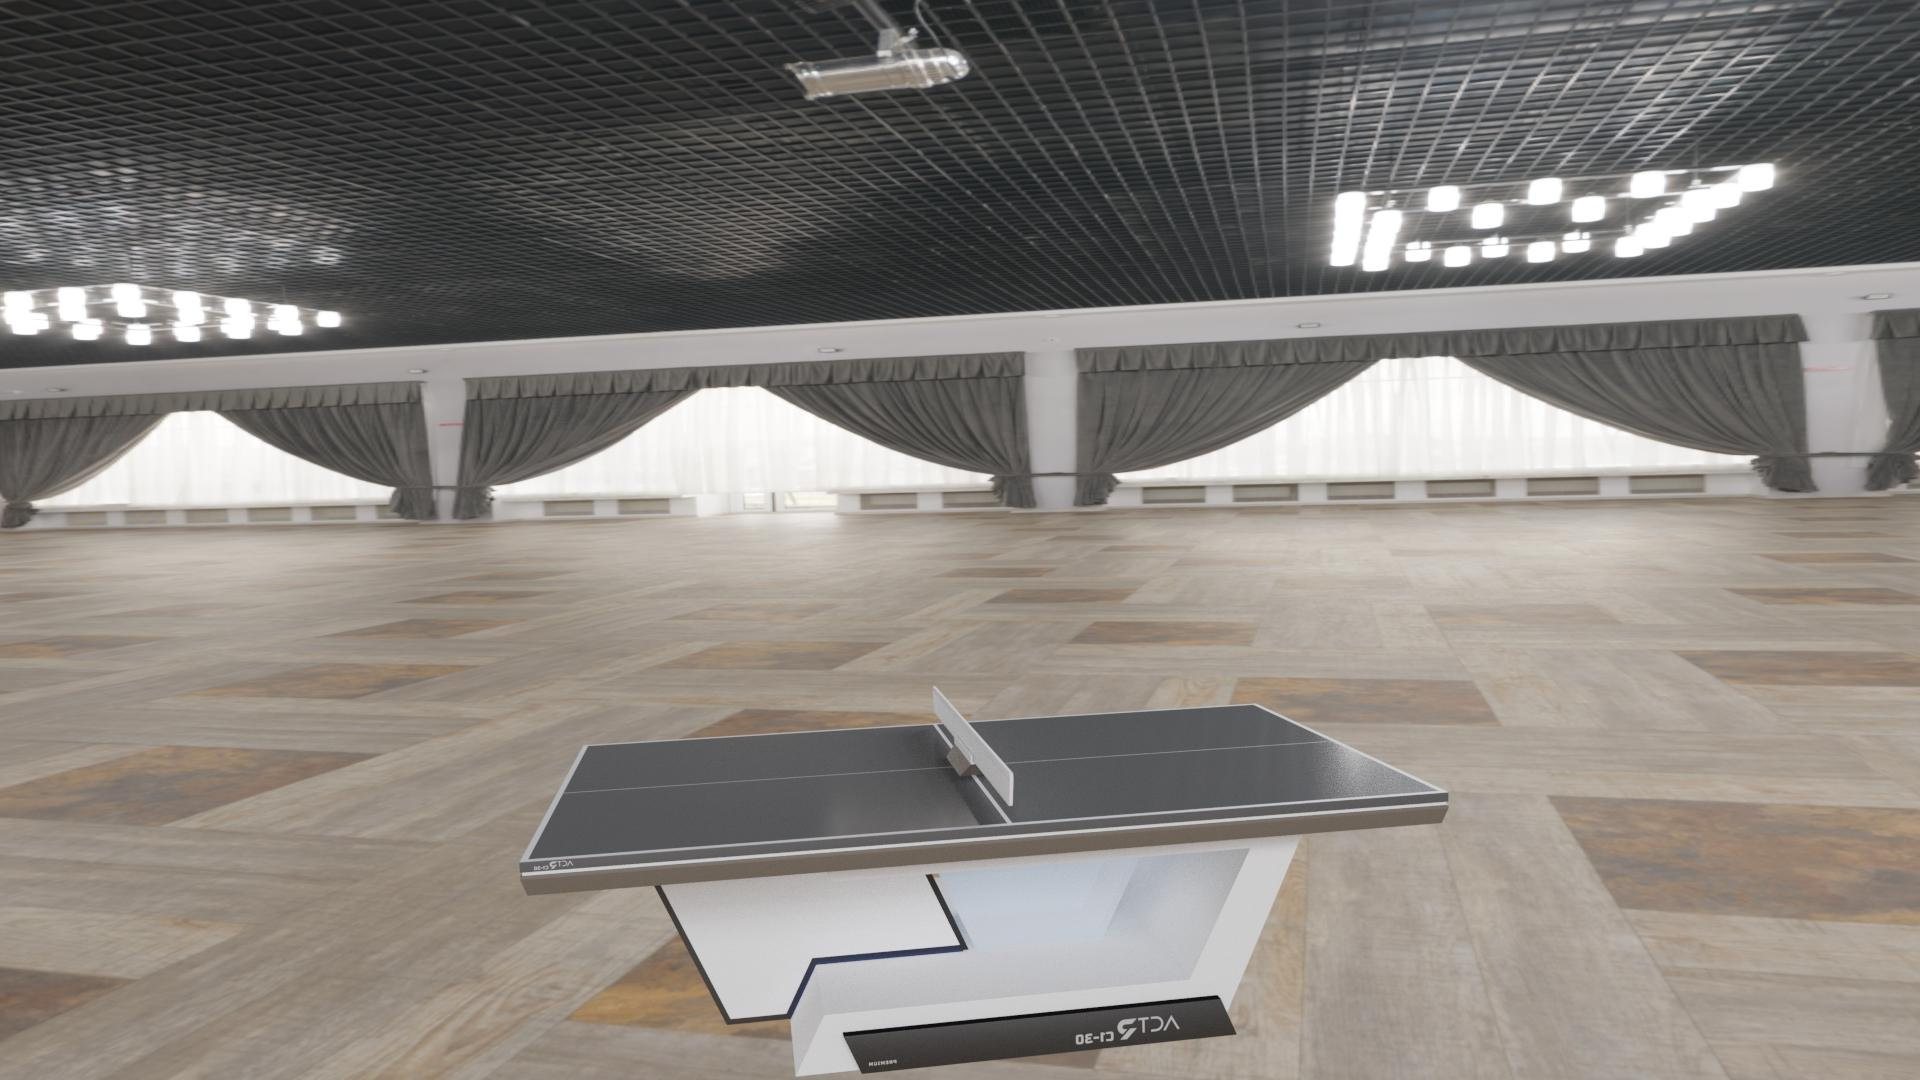table: (527, 704, 1439, 860)
